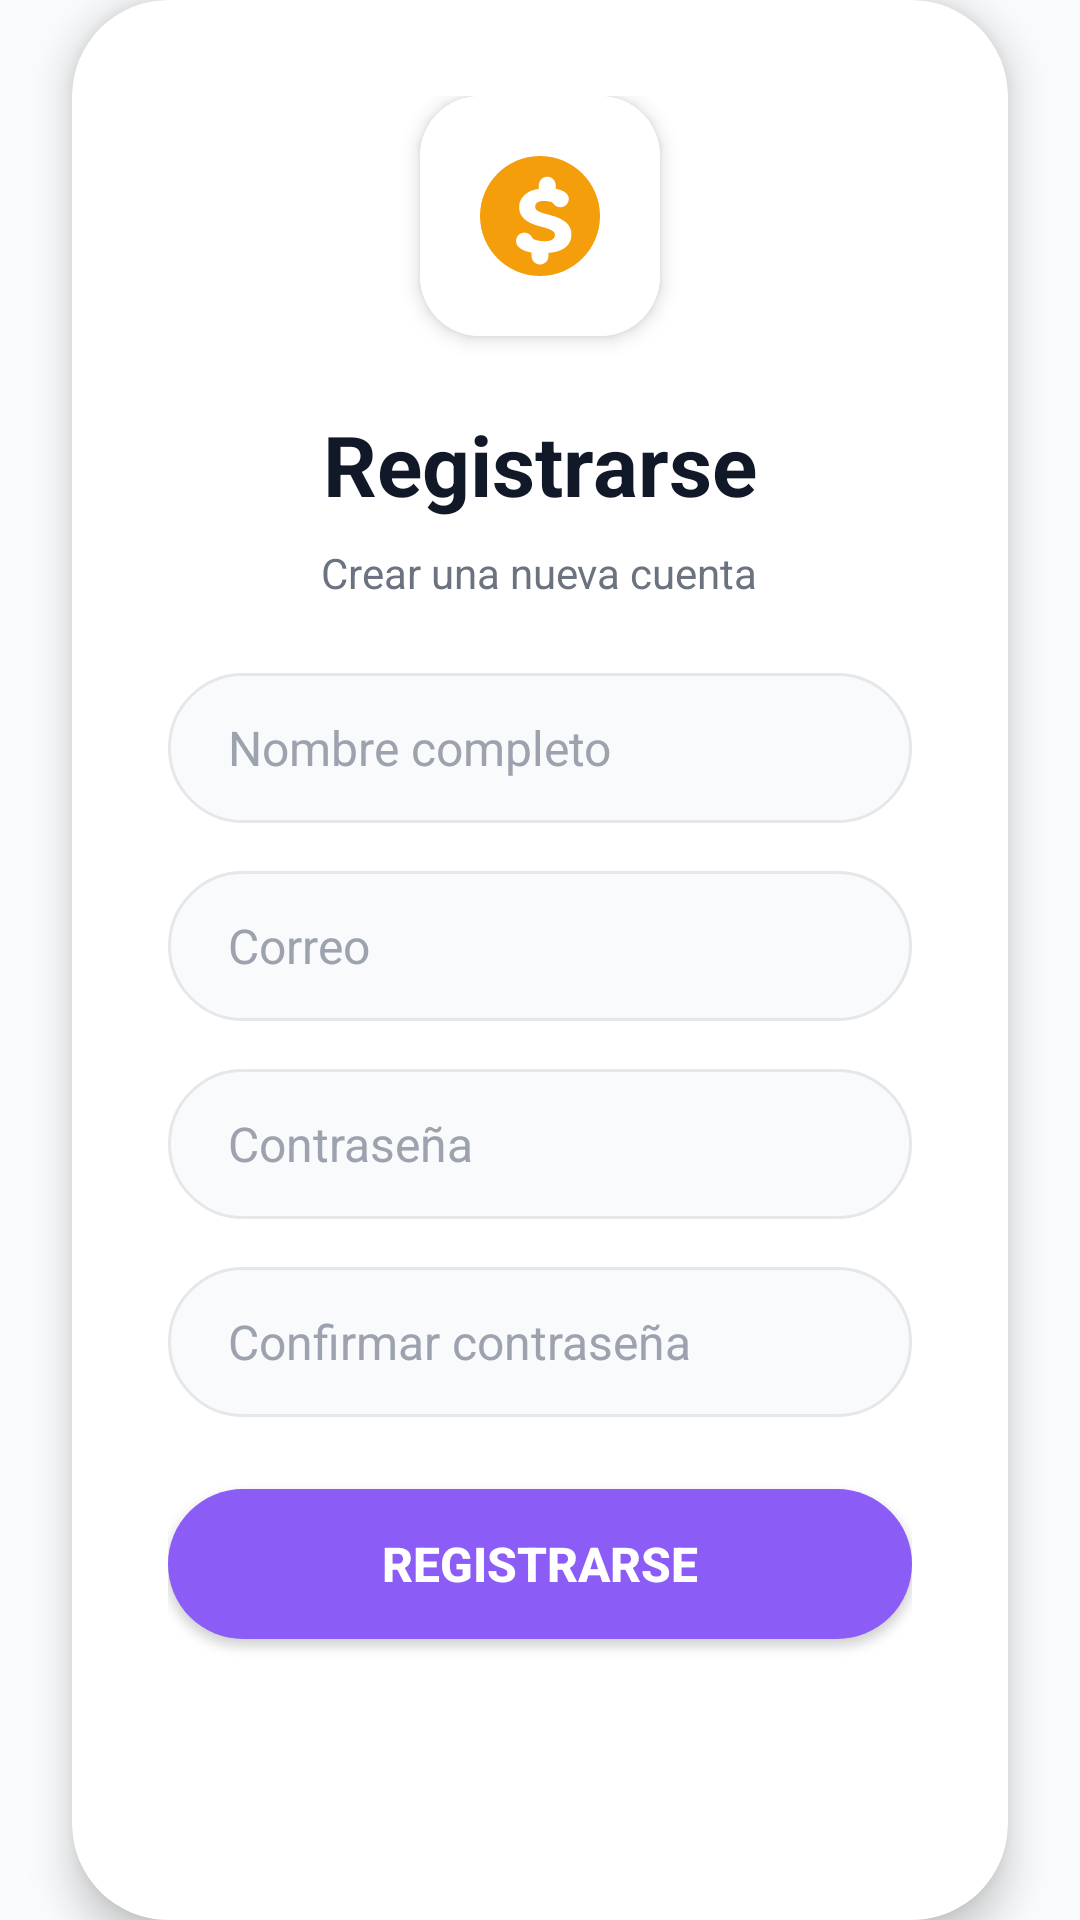

Screen size 1080x1920. Icon name, then its box in pixels as (x1, y1, x2, y2):
dollar: (420, 96, 660, 336)
